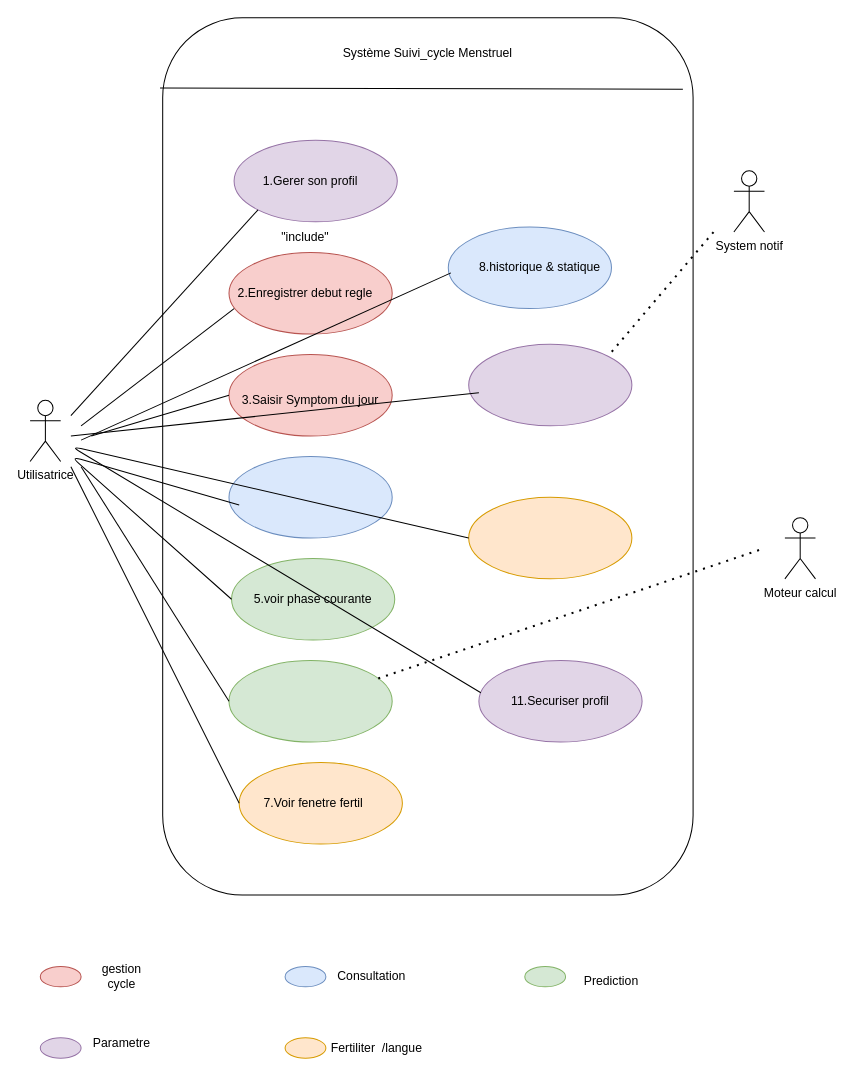
This 854x1081 diagram has some shape labels left out. The box of each missing label's shape, as (x1, y1, x2, y2) in pixels:
10.changer langue: (468, 496, 632, 579)
4.Consulter calendrier: (228, 455, 392, 538)
6.Voir prediction: (228, 659, 392, 742)
9. Gerer notification: (468, 343, 632, 426)
